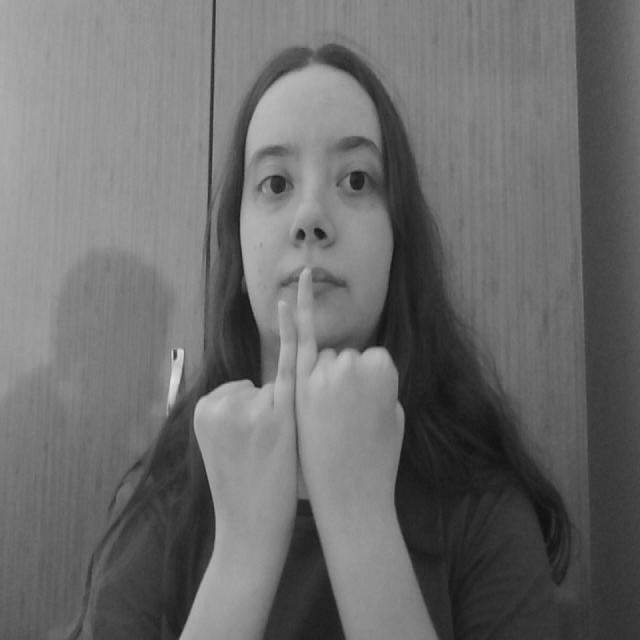Kardes: (190, 264, 410, 545)
